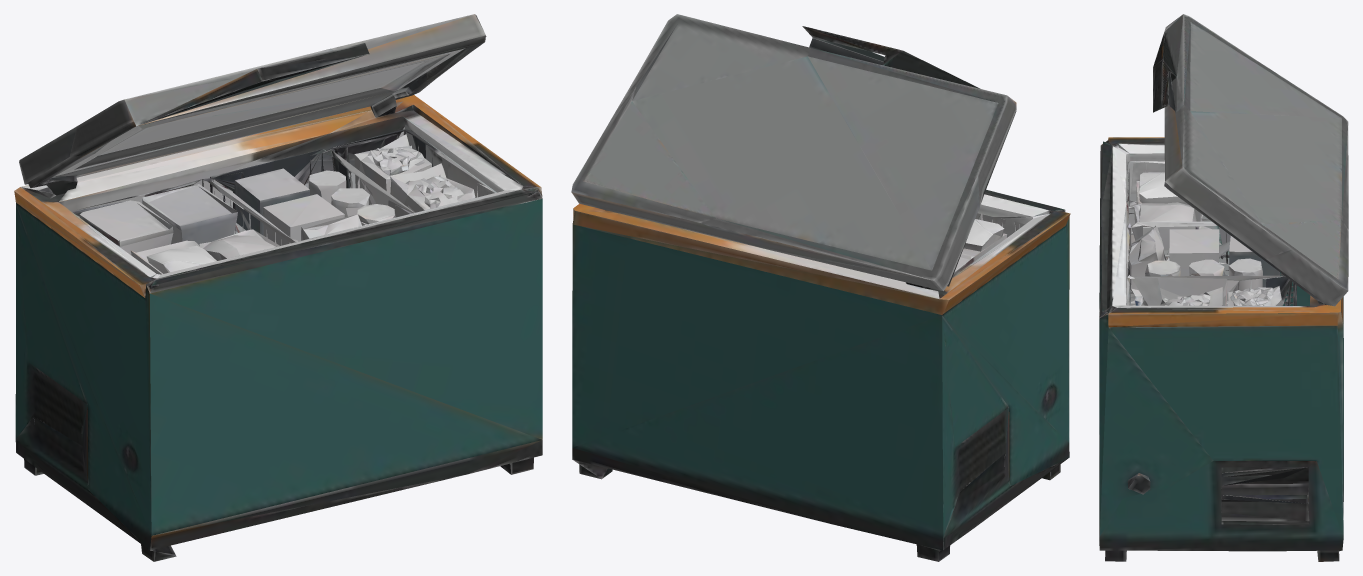
File: fishFreezer.glb
3 renders of one model, left to right at view 1: azimuth 30°, elevation 25°; view 2: azimuth 150°, elevation 25°; view 3: azimuth 270°, elevation 25°, orthographic. The views are drawn at different scales.
Visible parts, largest first — view 1: Mesh_0; view 2: Mesh_0; view 3: Mesh_0.
Part boxes in pixels (bbox=[...]): Mesh_0: bbox=[14, 14, 542, 561]; Mesh_0: bbox=[571, 14, 1070, 561]; Mesh_0: bbox=[1099, 14, 1348, 561].
Bounding box in the file's own units: 0.82 × 0.85 × 0.4863.
1 material, 1 textured.
